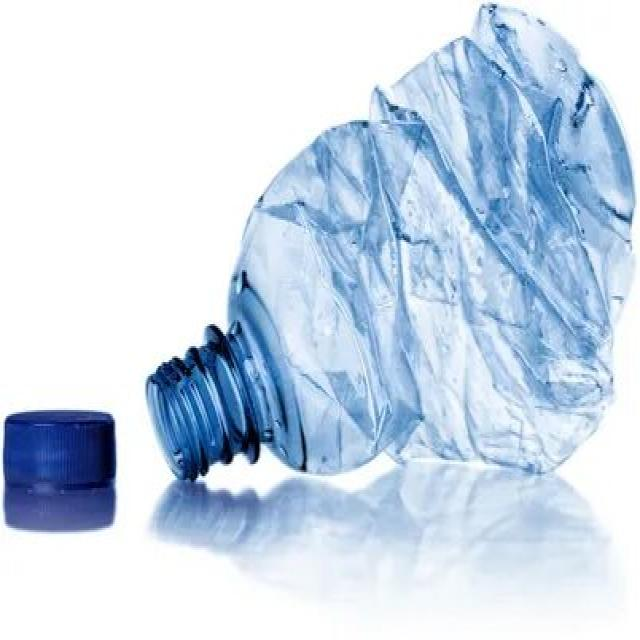blue: (145, 0, 635, 482)
